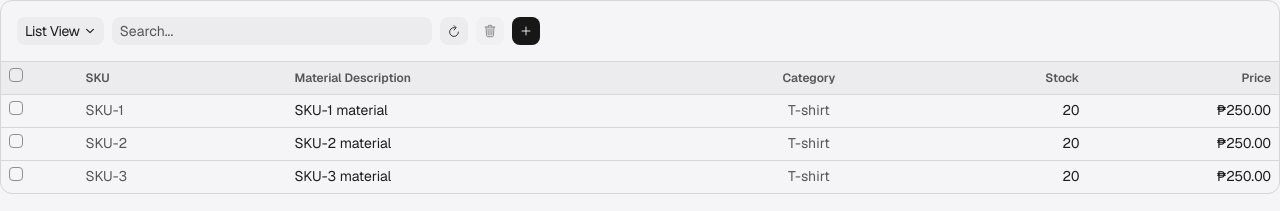
InventoryTable — ticking rows › reports the full count as the only header cell once every row is ticked
Click the checkbox named "select all stock items".
click(16, 75)  # box top-left (9, 68), bottom-right (23, 82)
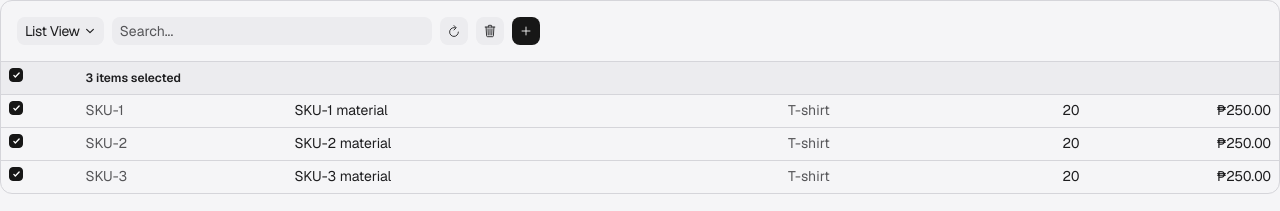
Check: the checkbox named "Select SKU-1" is checked, box top-left (9, 101), bottom-right (23, 115)
Check: the checkbox named "Select SKU-2" is checked, box top-left (9, 134), bottom-right (23, 148)
Check: the checkbox named "Select SKU-3" is checked, box top-left (9, 167), bottom-right (23, 181)
